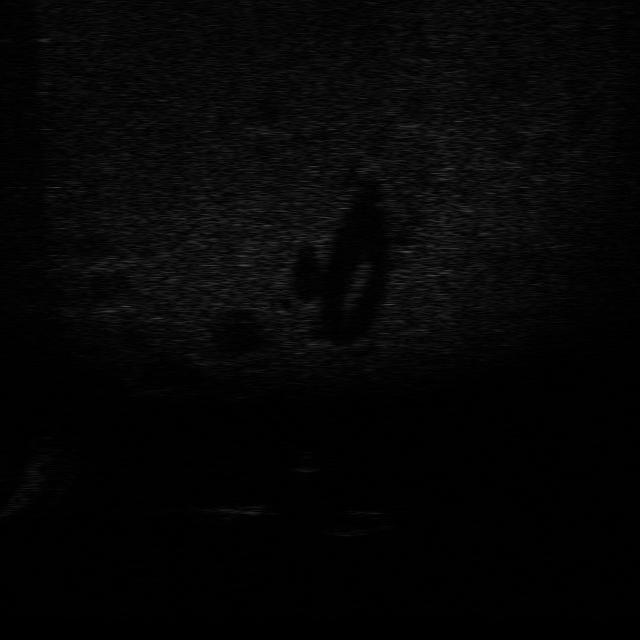ball: (281, 447, 334, 477)
square cage: (200, 497, 275, 527)
tyre: (317, 506, 398, 541)
